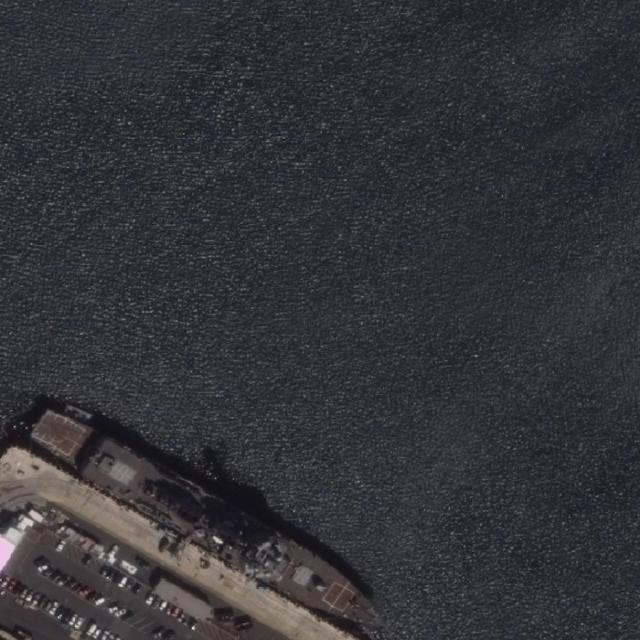Destroyer: (26, 402, 398, 639)
